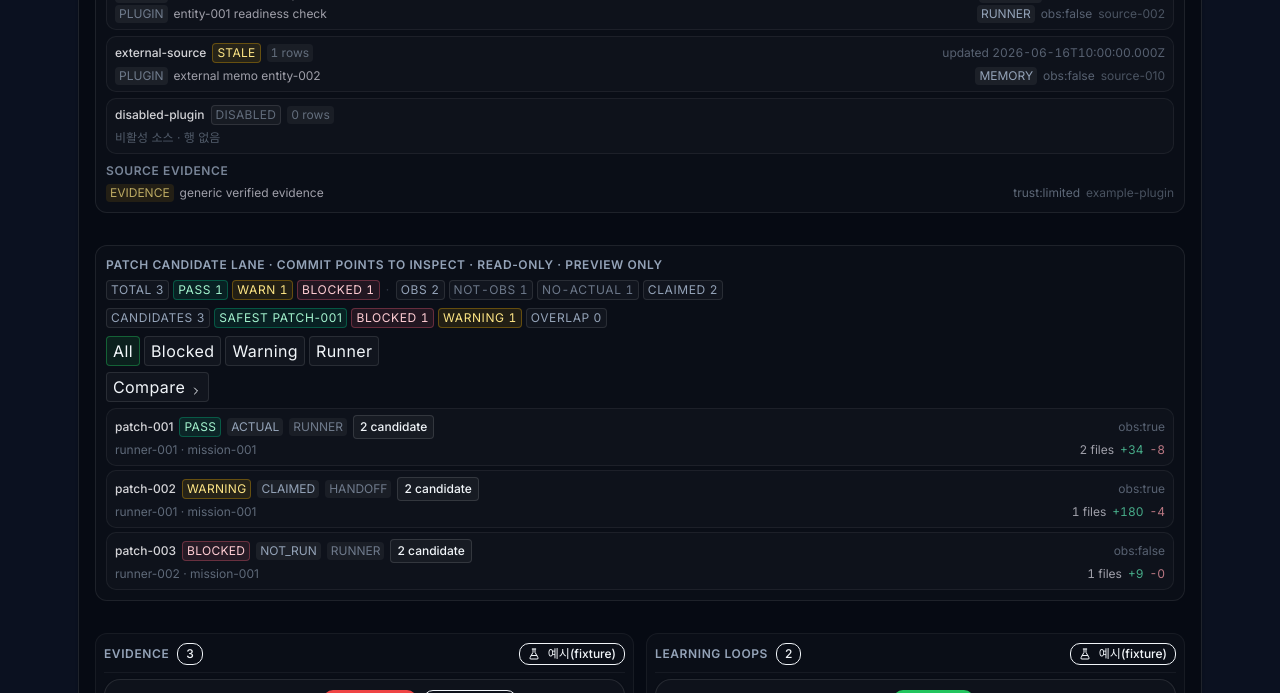
Scenario: Batch 17 LINE D — patch lane filters (local-view) › Warning filter lists only warning candidates
(page scrolled)
Click the button with test id "patch-ctl-warning" at (265, 351), box [225,336,305,366]
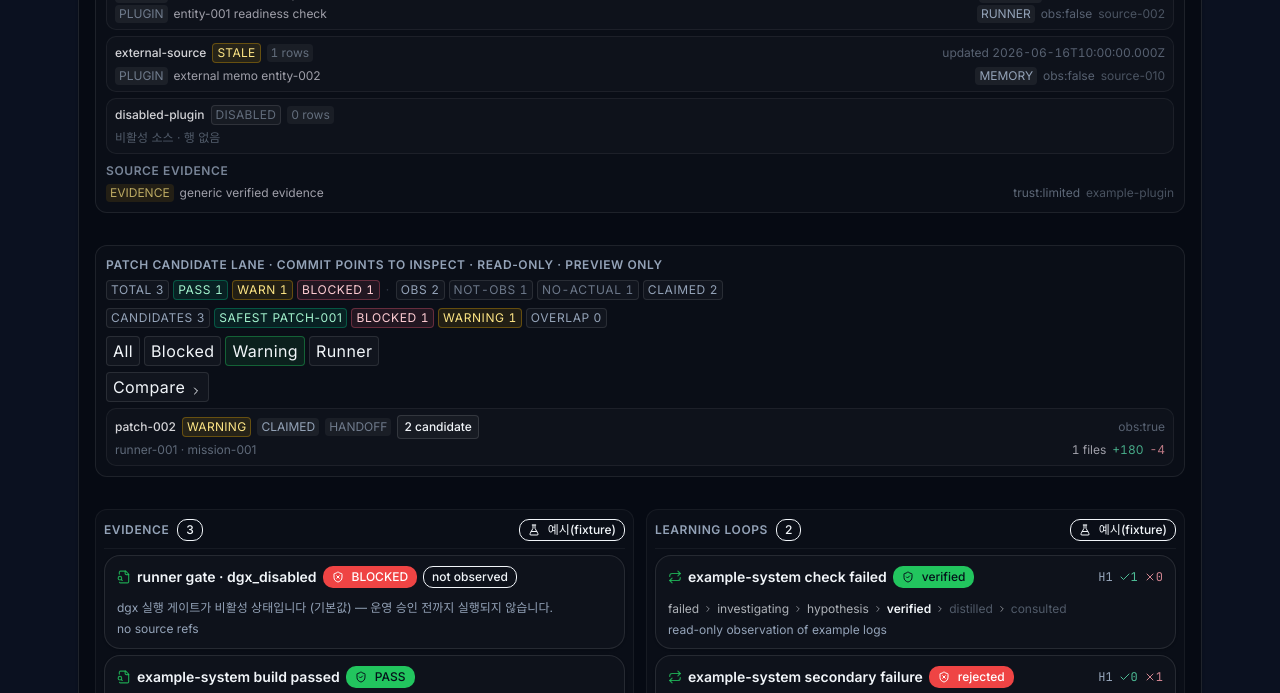
Check: the button with test id "patch-candidate-patch-002" is shown, box [106,408,1174,466]
Check: the button with test id "patch-candidate-patch-001" is gone
